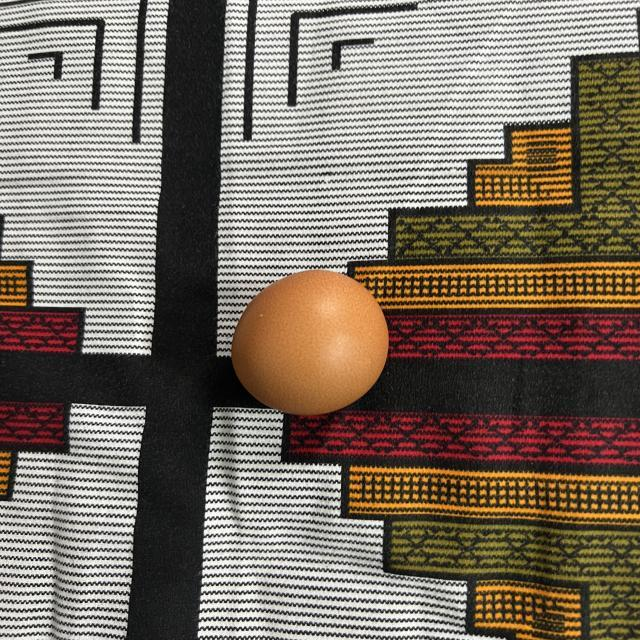egg: (233, 269, 396, 420)
